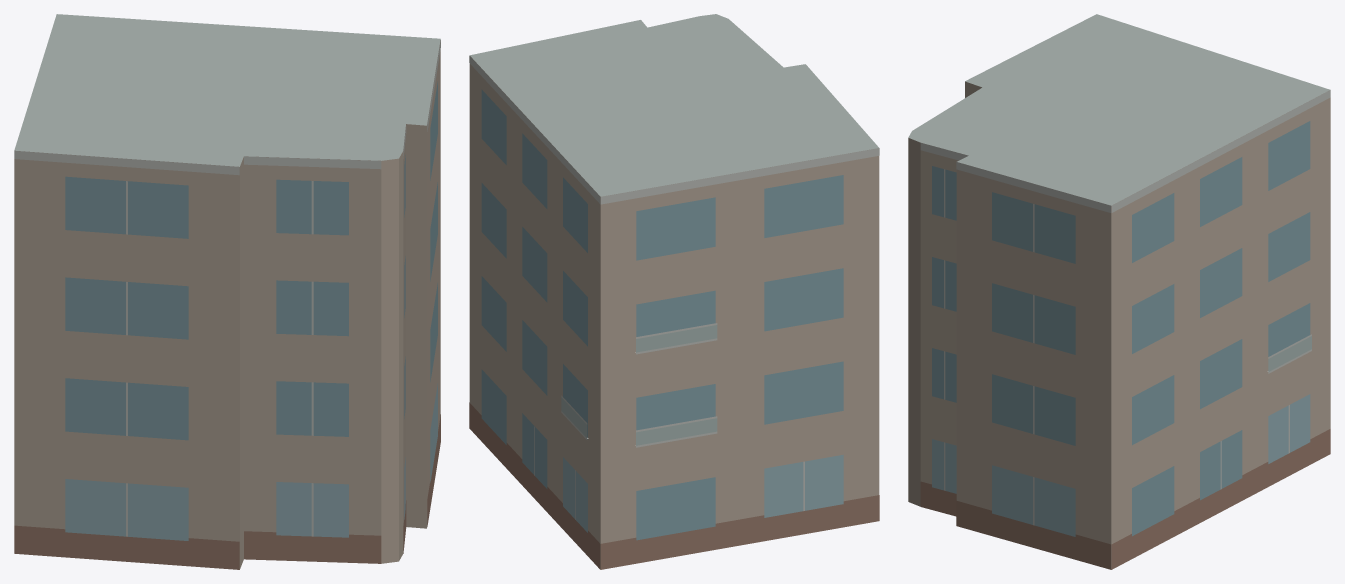
File: survey-upis-32872035.glb
The picture shows the model from 3 angles, left to right: view 1: azimuth 30°, elevation 25°; view 2: azimuth 150°, elevation 25°; view 3: azimuth 270°, elevation 25°; orthographic projection. The views are drawn at different scales.
Parts seen in each view (by area): view 1: survey-upis-32872035.tmp; view 2: survey-upis-32872035.tmp; view 3: survey-upis-32872035.tmp.
Boxes of the visible parts, x1,y1,x2,y2 form: survey-upis-32872035.tmp: [14, 14, 440, 569]; survey-upis-32872035.tmp: [469, 14, 879, 569]; survey-upis-32872035.tmp: [908, 14, 1330, 569].
Size of the model in its own units: 13.21 by 11.7 by 12.3.
